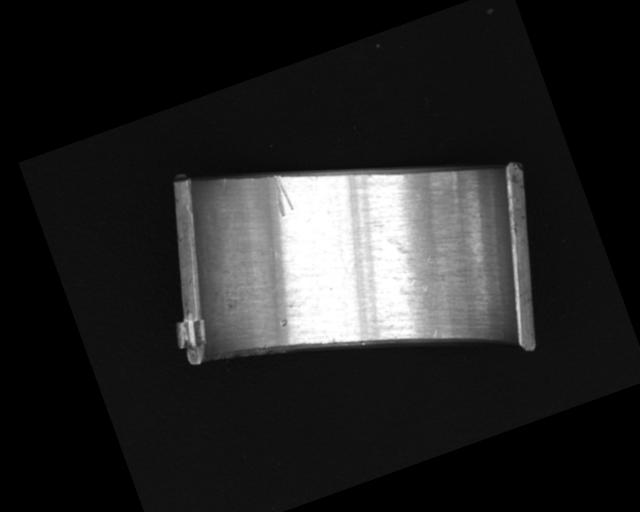bruise: (277, 317, 289, 329)
nick: (266, 172, 297, 217), (217, 176, 229, 191)
